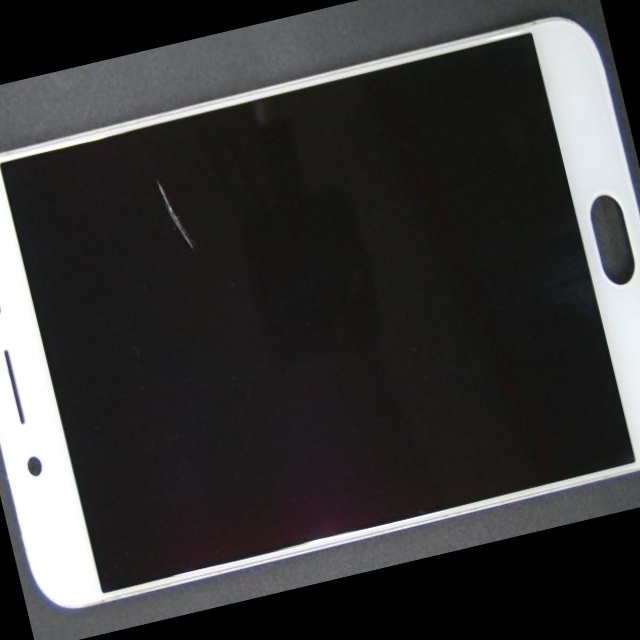scratch: (78, 146, 321, 309)
